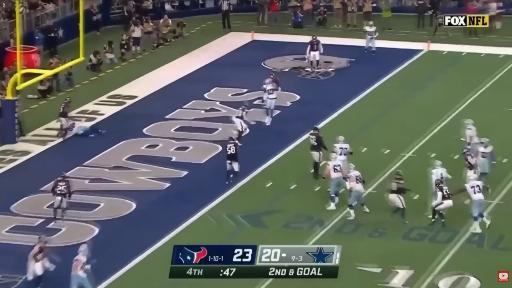Helmet: (467, 171, 478, 182), (78, 244, 88, 255), (38, 235, 47, 245), (469, 173, 478, 181), (330, 152, 337, 161), (463, 147, 470, 155), (465, 119, 474, 125), (480, 138, 489, 144), (435, 180, 443, 186), (434, 161, 442, 167), (338, 136, 344, 143), (395, 170, 402, 176), (61, 172, 67, 178), (265, 79, 272, 84), (312, 126, 319, 131), (65, 97, 71, 102), (229, 137, 235, 142), (350, 164, 354, 171), (369, 21, 374, 26), (243, 102, 248, 107), (270, 74, 275, 78), (312, 35, 317, 39)
Jersey: (477, 145, 495, 173), (52, 179, 71, 197), (466, 181, 484, 200), (390, 175, 407, 194), (347, 171, 363, 191), (310, 132, 326, 151), (72, 255, 87, 273), (334, 144, 350, 160), (29, 244, 44, 261), (328, 160, 342, 178), (226, 142, 238, 162), (465, 125, 478, 143), (264, 81, 277, 99), (432, 168, 450, 181), (438, 186, 451, 201), (465, 153, 476, 170), (478, 146, 493, 158), (58, 102, 69, 118), (364, 26, 377, 38), (309, 39, 321, 52), (239, 105, 248, 121), (70, 122, 80, 131)
Player: (27, 236, 55, 287), (466, 176, 490, 232), (346, 164, 369, 219), (323, 153, 344, 209), (388, 171, 410, 223), (430, 180, 453, 226), (51, 173, 72, 219), (477, 139, 495, 191), (309, 127, 327, 179), (71, 244, 92, 287), (431, 161, 451, 200), (334, 136, 353, 174), (263, 79, 277, 125), (226, 137, 239, 183), (58, 97, 72, 138), (463, 120, 479, 155), (463, 148, 478, 182), (307, 35, 322, 69), (364, 22, 378, 54), (234, 106, 246, 137), (72, 126, 104, 136), (270, 74, 281, 91)
